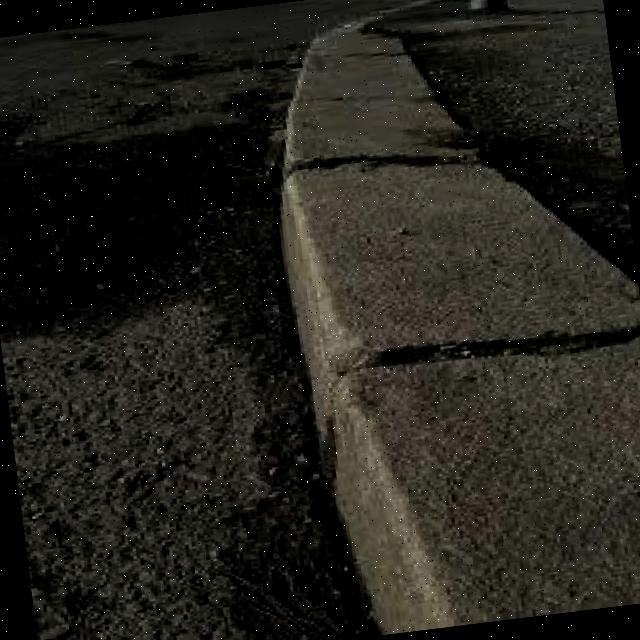curb: (256, 1, 640, 640)
